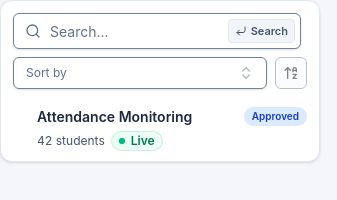
Test: WorkflowList › keeps loading and empty states outside the grid
Expected: the row "Attendance Monitoring Approved 42 students Live" is shown, x1=1 y1=97 x2=319 y2=161
Type "zzz" into the search field at point(157, 31), box x1=13 y1=13 x2=301 y2=49
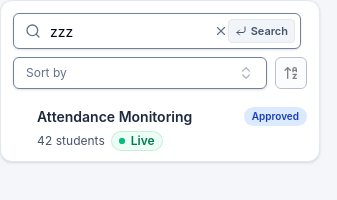
Click the button "Search" at point(261, 31), box x1=228 y1=19 x2=295 y2=43
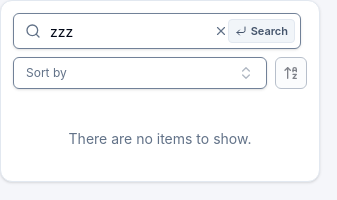
Expected: the message reads "There are no items to show.", x1=69 y1=130 x2=252 y2=147
